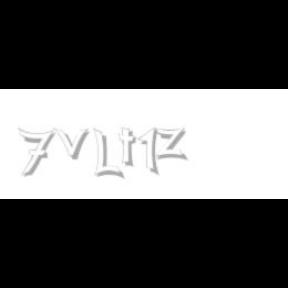1: (137, 128, 159, 176)
7: (18, 128, 55, 178)
L: (93, 128, 121, 180)
t: (119, 128, 141, 168)
v: (53, 128, 93, 160)
z: (154, 128, 190, 160)
